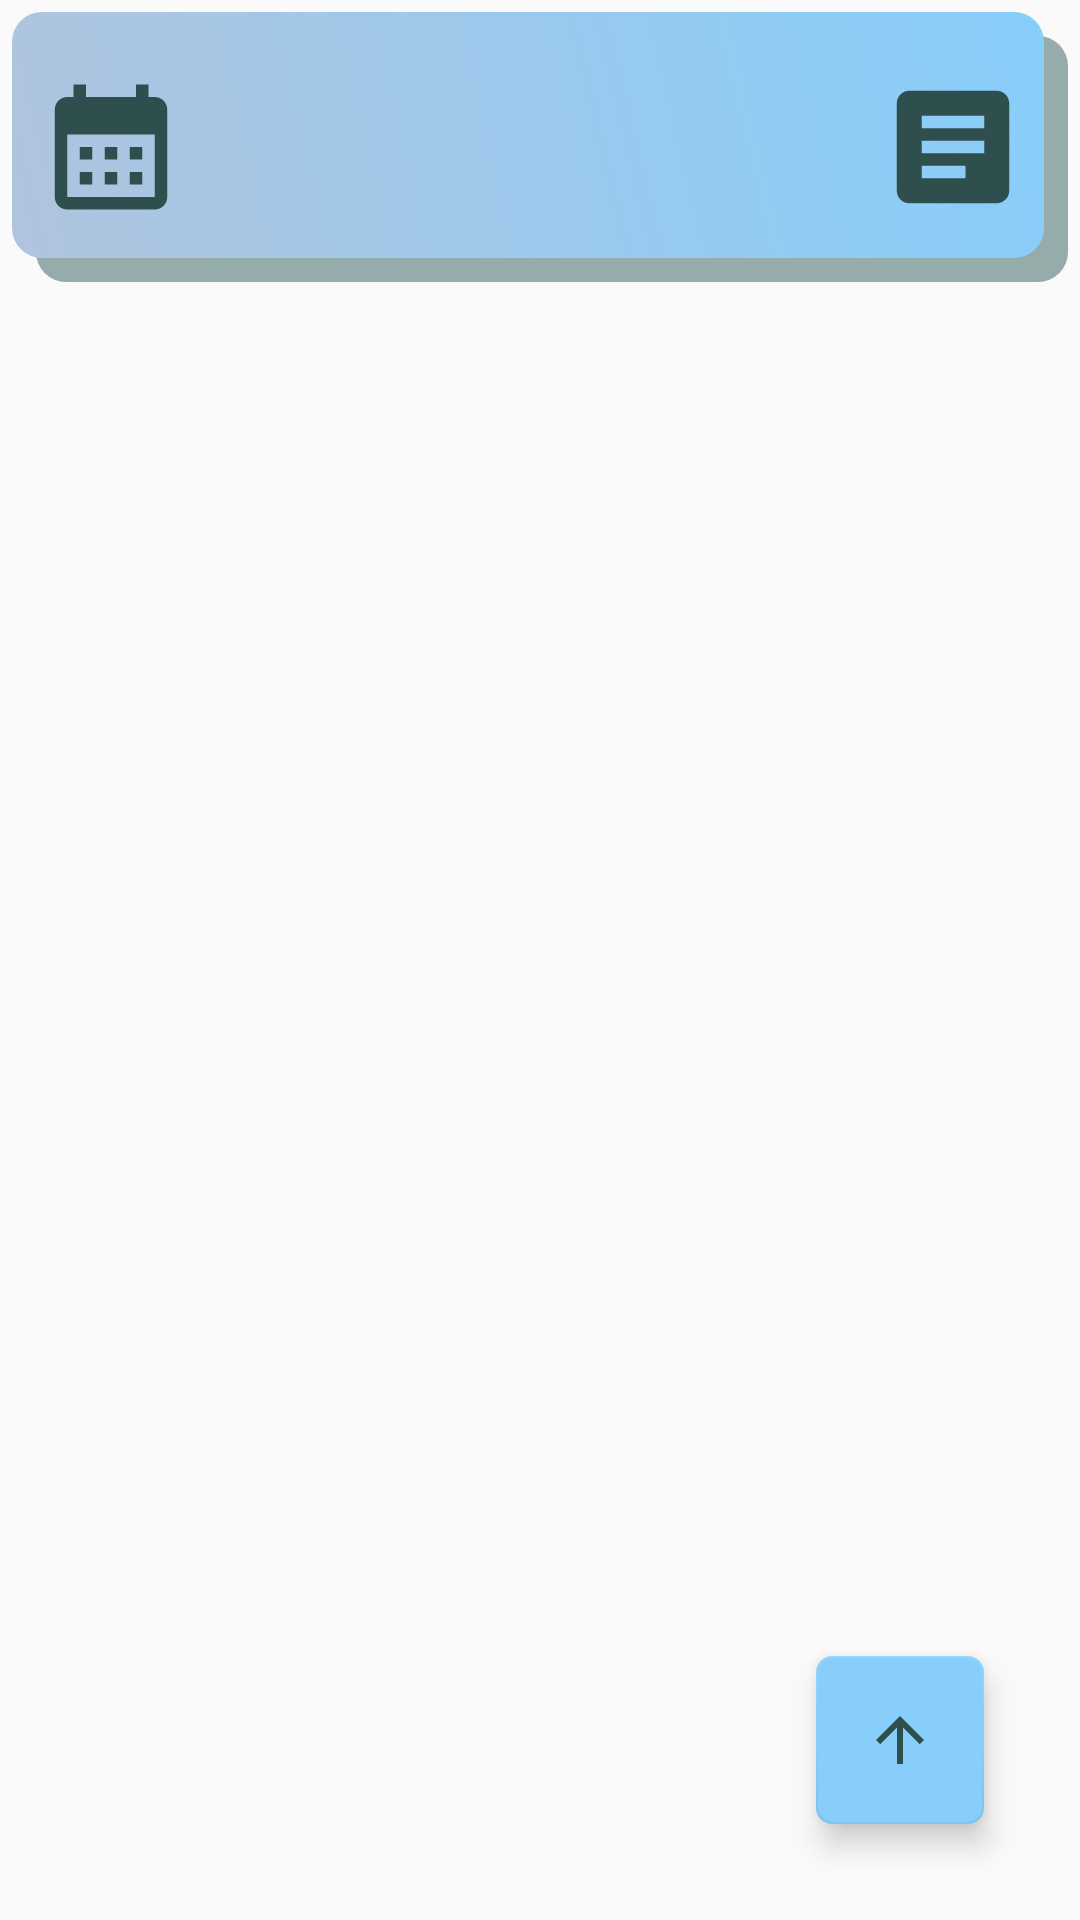

Where to tap for icons on this 1080x1920 app screen, as point (x, y):
article: point (953, 147)
calendar month: point (111, 147)
